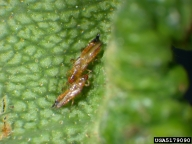Thrips: (50, 74, 92, 114), (66, 35, 98, 83)
